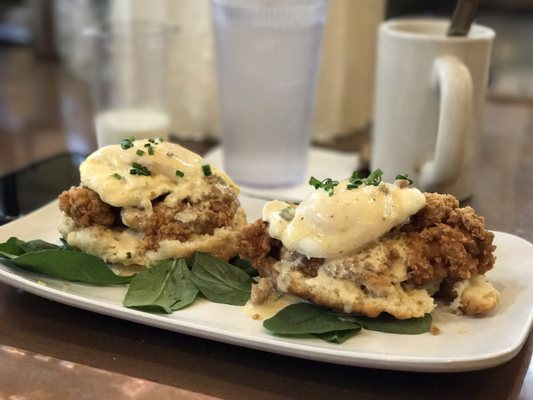soup: (257, 169, 500, 321), (55, 136, 251, 271)
